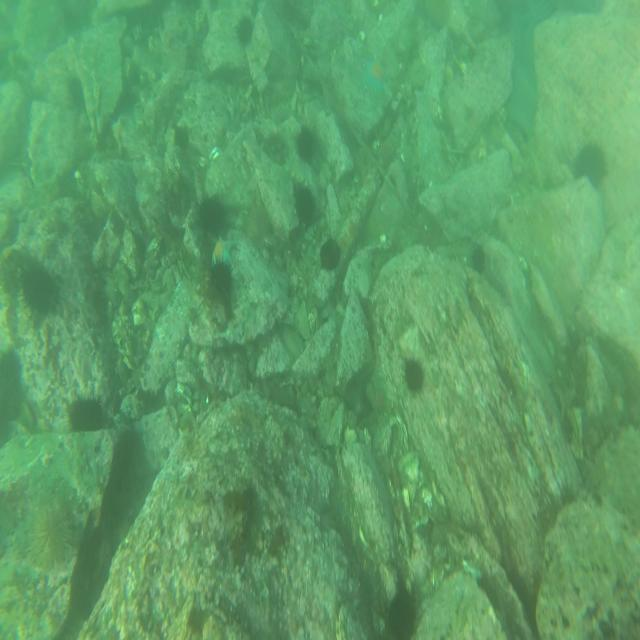echinus: (29, 499, 76, 571), (19, 258, 56, 317), (384, 584, 418, 639), (69, 391, 108, 437), (576, 141, 608, 192), (208, 256, 234, 307), (296, 120, 319, 162), (402, 353, 423, 394), (197, 196, 221, 230), (319, 234, 341, 270), (235, 12, 254, 49), (295, 185, 314, 220), (470, 240, 487, 268), (174, 126, 192, 151)
starfish: (364, 56, 388, 98), (208, 234, 234, 269)
